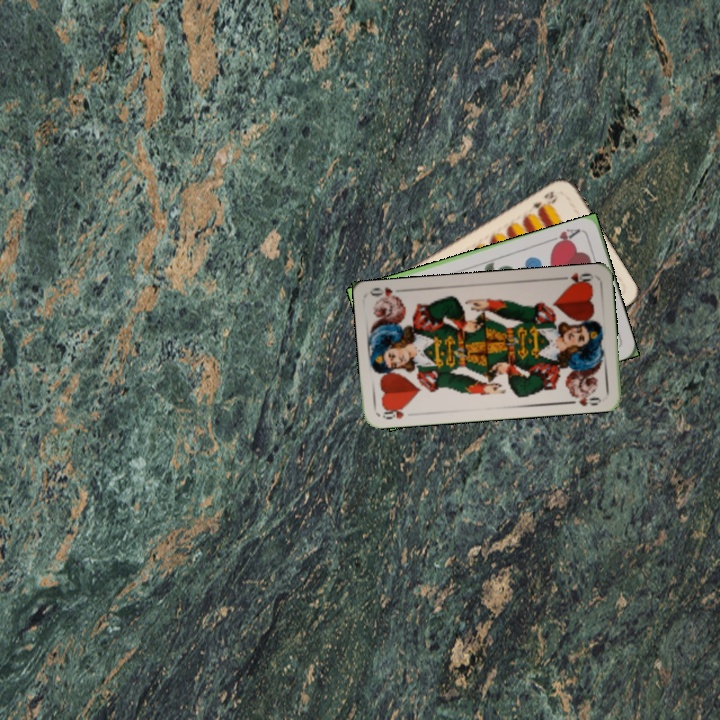E10: (525, 187, 560, 214)
HA: (544, 224, 583, 250)
HO: (556, 269, 596, 288), (378, 402, 410, 422)
